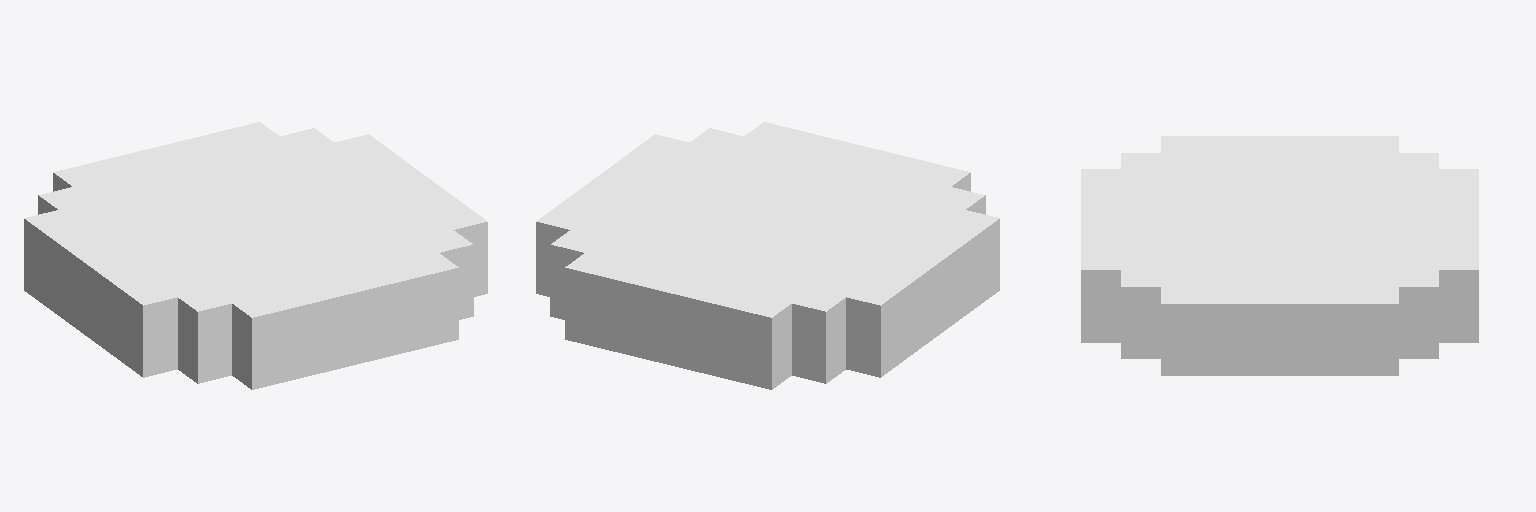
The model's file is buns_bottom.obj.
3 views of the same model, side by side, from view 1: azimuth 30°, elevation 25°; view 2: azimuth 150°, elevation 25°; view 3: azimuth 270°, elevation 25° (orthographic).
Bounding box in the file's own units: 10 × 2 × 10.